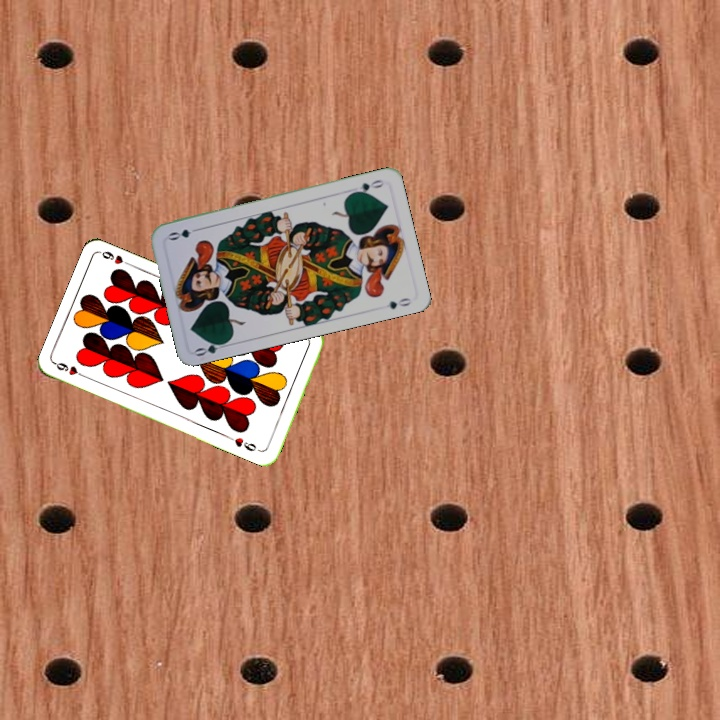GO: (191, 337, 232, 359), (348, 176, 387, 196)
H9: (52, 358, 90, 381)
